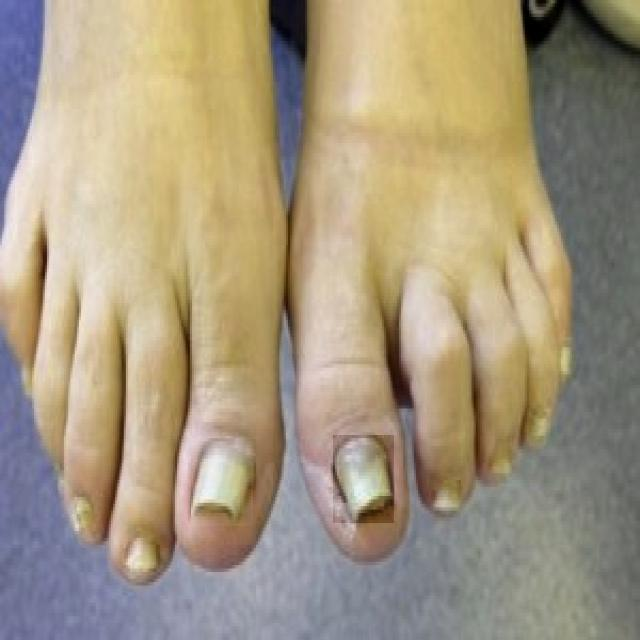diabetes: (192, 437, 253, 526), (333, 436, 394, 523)
